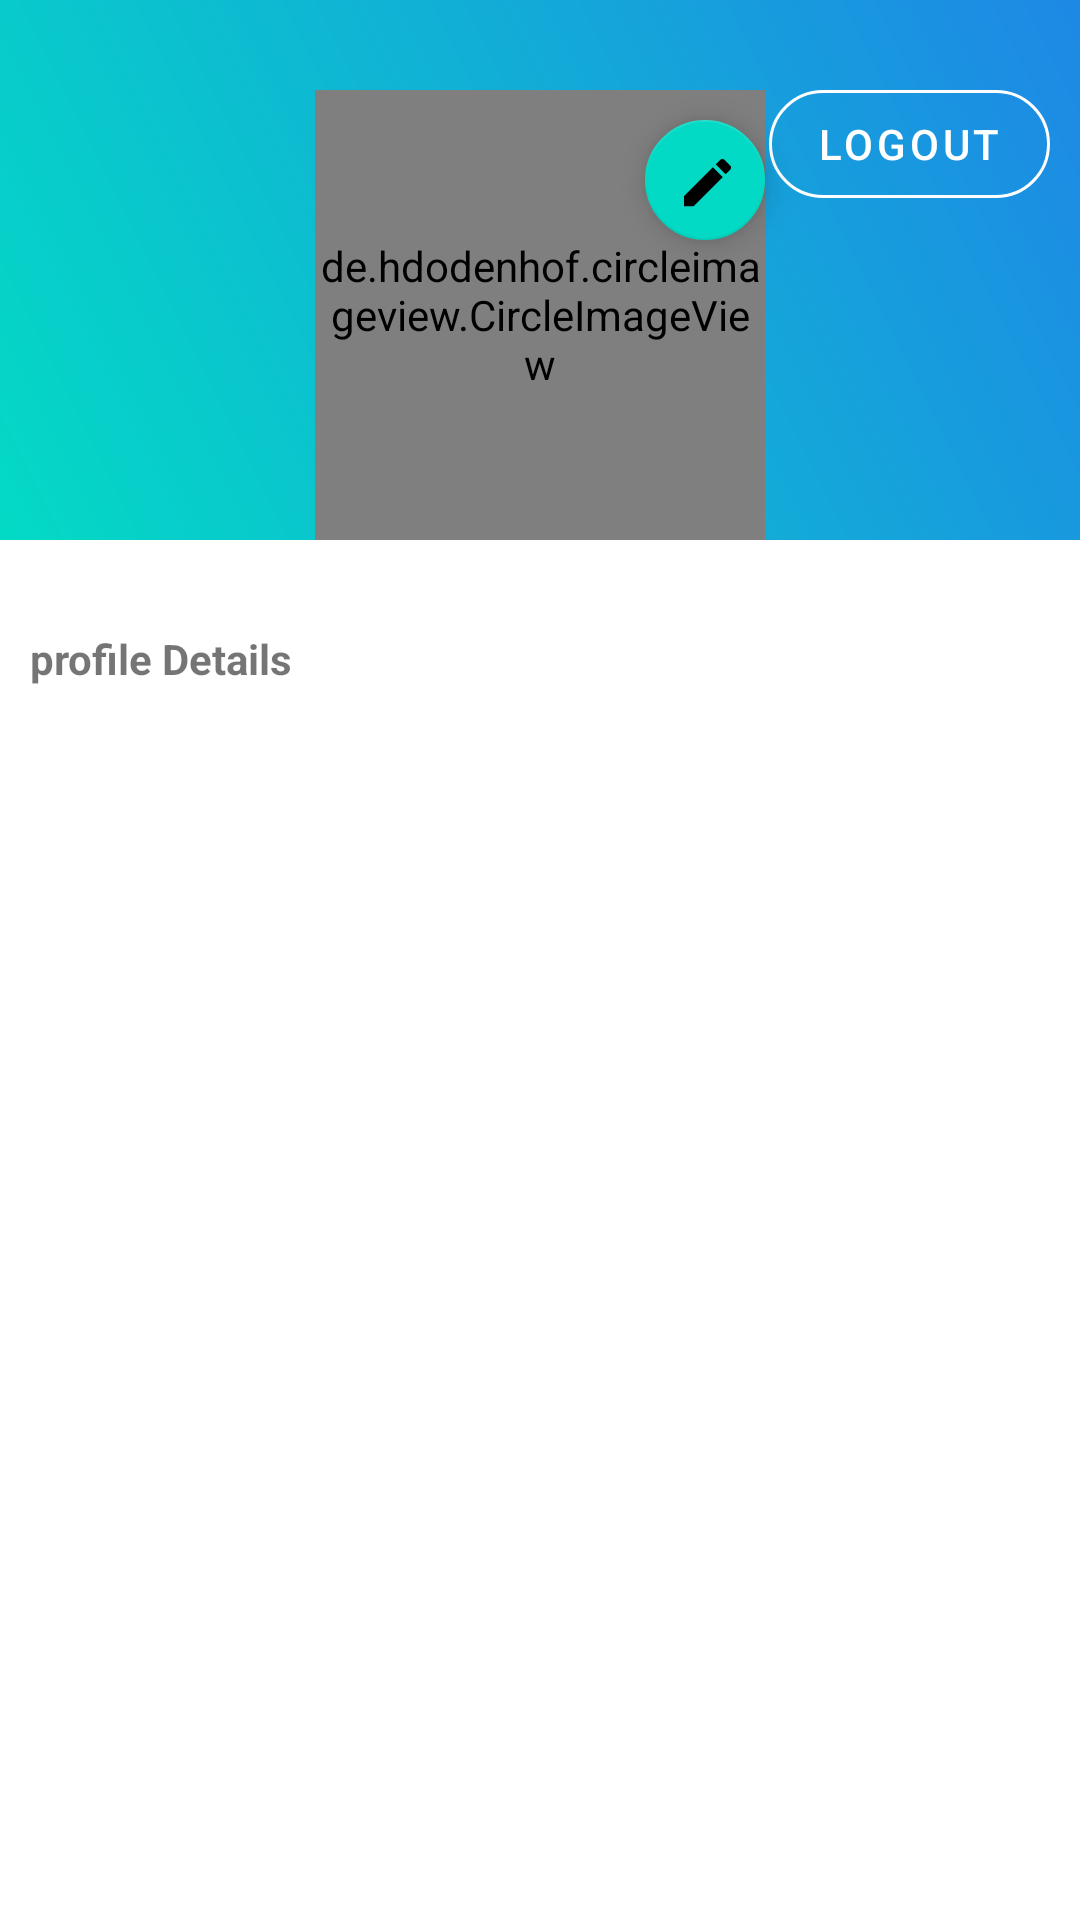

Named icons in this screenshot (1080x1920) and their bounding boxes, (x1, y1, x2, y2):
edit: (645, 120, 765, 240)
